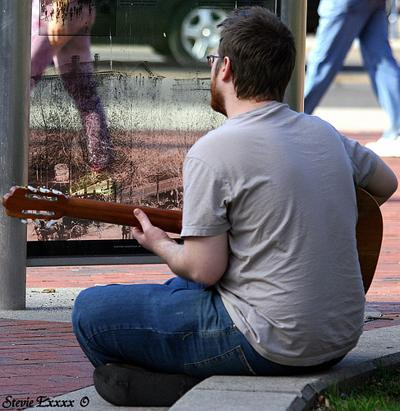person: (71, 7, 398, 409)
